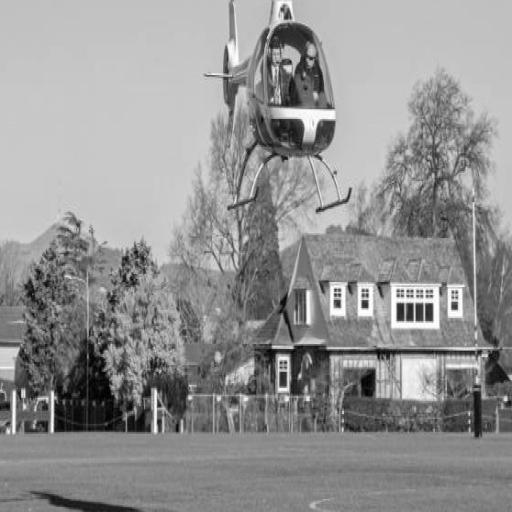helicopter: (117, 1, 437, 215)
